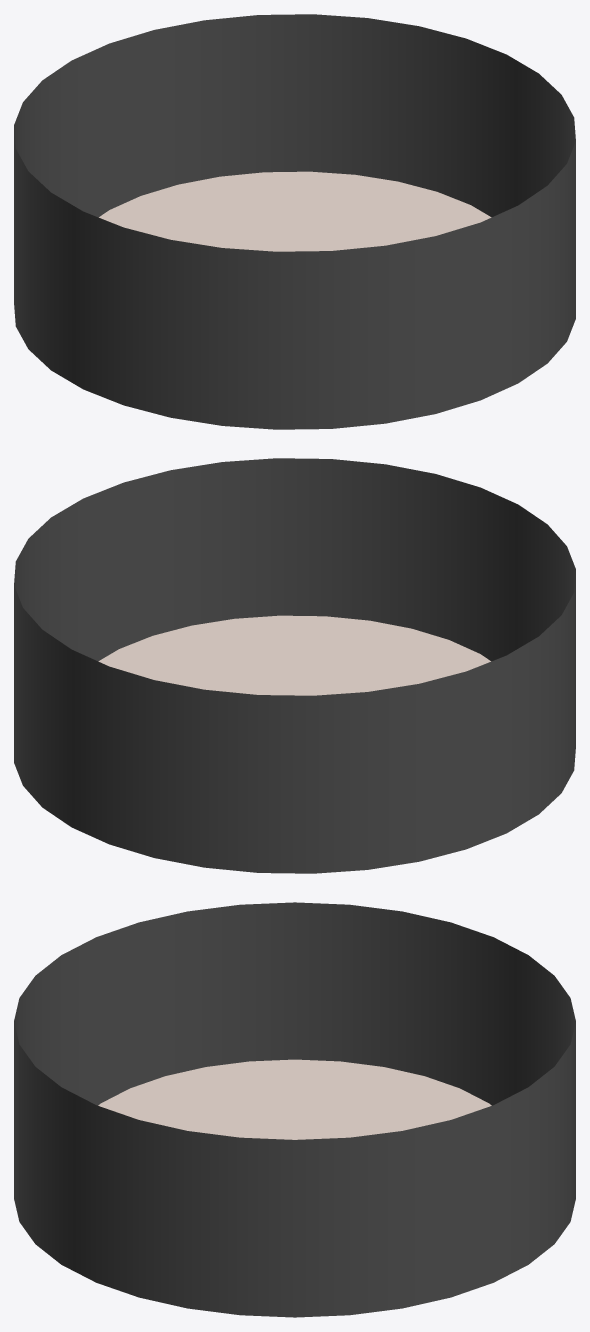
The model's file is recessed.fbx.
3 views of the same model, one above another, from view 1: azimuth 30°, elevation 25°; view 2: azimuth 150°, elevation 25°; view 3: azimuth 270°, elevation 25° (orthographic).
Parts seen in each view (by area): view 1: RecessedLight; view 2: RecessedLight; view 3: RecessedLight.
Boxes of the visible parts, x1,y1,x2,y2 form: RecessedLight: (14, 14, 575, 429); RecessedLight: (14, 458, 575, 873); RecessedLight: (14, 902, 575, 1317).
Bounding box in the file's own units: 50 × 17.44 × 50.
